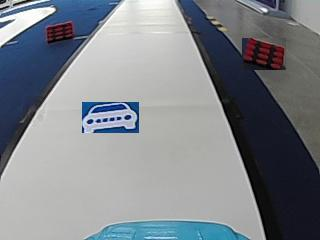bomb: (45, 20, 74, 42)
